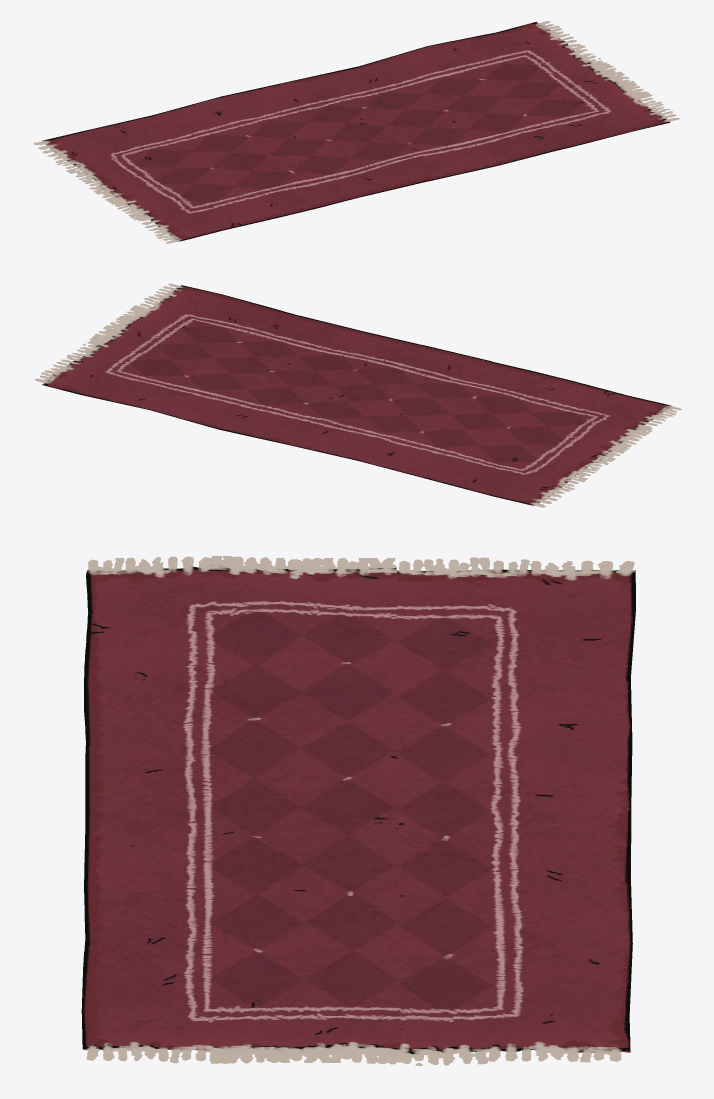
Rendered from CarpetHall_02.fbx.
3 renders of one model, top to bottom at view 1: azimuth 30°, elevation 25°; view 2: azimuth 150°, elevation 25°; view 3: azimuth 270°, elevation 25°, orthographic. The views are drawn at different scales.
Visible parts, largest first — view 1: Plane.155; view 2: Plane.155; view 3: Plane.155.
Boxes of the visible parts, bbox=[...] form: Plane.155: bbox=[33, 21, 679, 243]; Plane.155: bbox=[35, 283, 681, 507]; Plane.155: bbox=[81, 556, 635, 1065].
Size of the model in its own units: 2892 by 19.01 by 1266.
